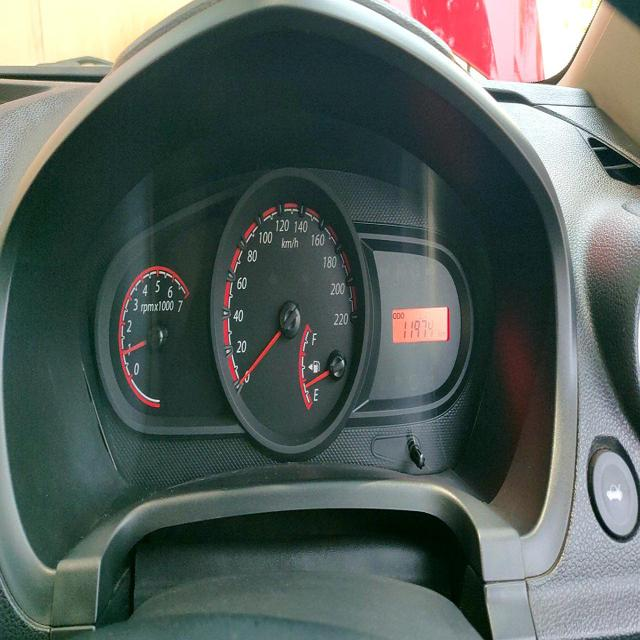odometer: (402, 316, 436, 341)
